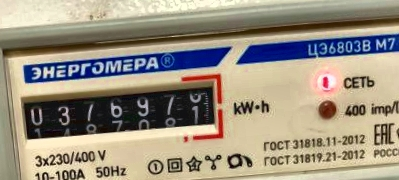0: (27, 103, 44, 126)
1: (189, 102, 200, 125)
3: (56, 103, 71, 125)
6: (107, 94, 124, 118)
7: (81, 97, 97, 122), (161, 90, 177, 114)
9: (134, 93, 150, 117)
screen: (10, 68, 230, 160)
